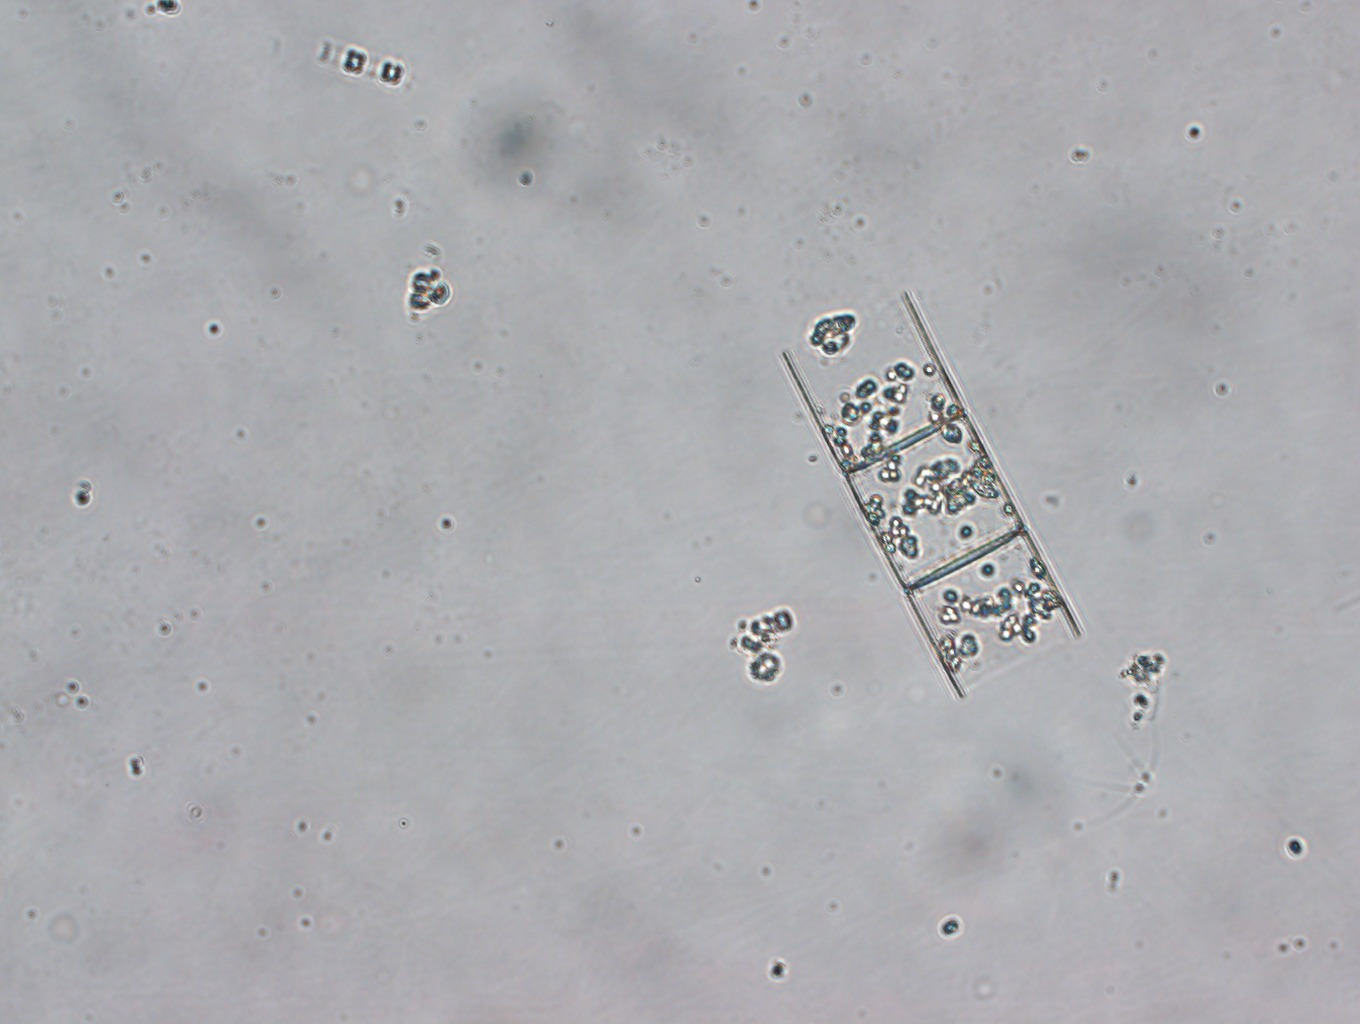guinardia flaccida: (778, 291, 1080, 699)
